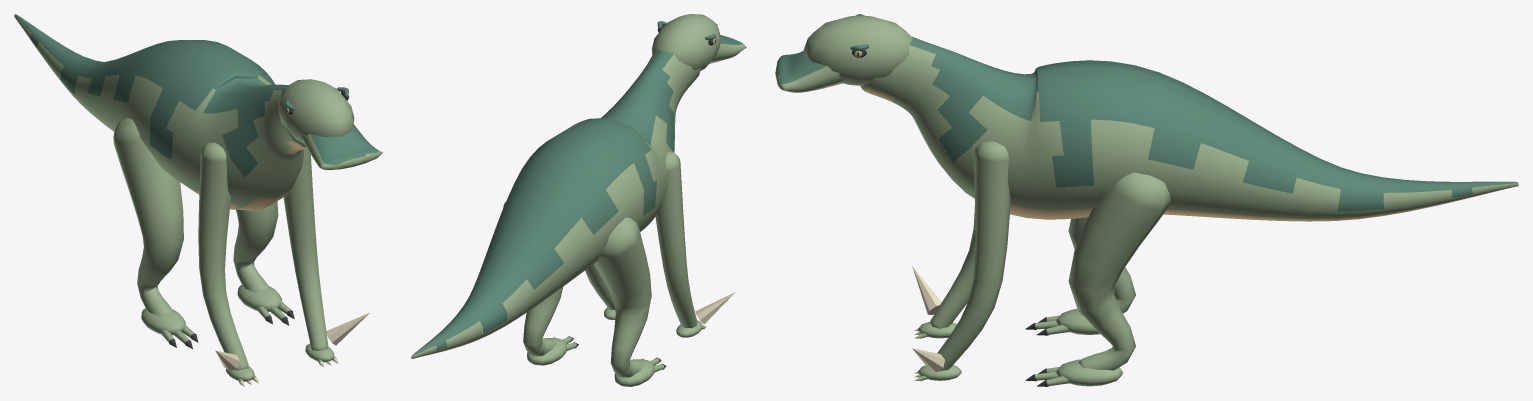
File: primeval-frontier-iguanodon-94bbb607__1706.glb
3 views of the same model, side by side, from view 1: azimuth 30°, elevation 25°; view 2: azimuth 150°, elevation 25°; view 3: azimuth 270°, elevation 25° (orthographic). The views are drawn at different scales.
Parts seen in each view (by area): view 1: iguanodon; view 2: iguanodon; view 3: iguanodon.
Part boxes in pixels (<box>): iguanodon: <box>14,14,382,386</box>; iguanodon: <box>411,14,746,386</box>; iguanodon: <box>775,14,1518,386</box>.
Size of the model in its own units: 1.85 by 3.52 by 7.
